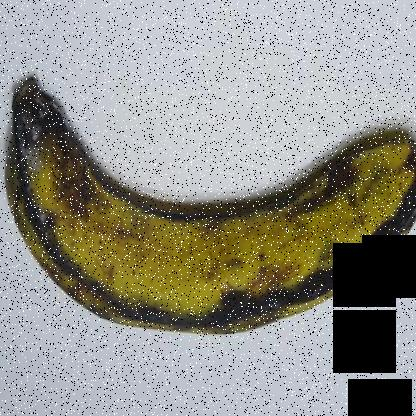overripe: (1, 45, 415, 356)
rotten: (1, 53, 120, 183)
